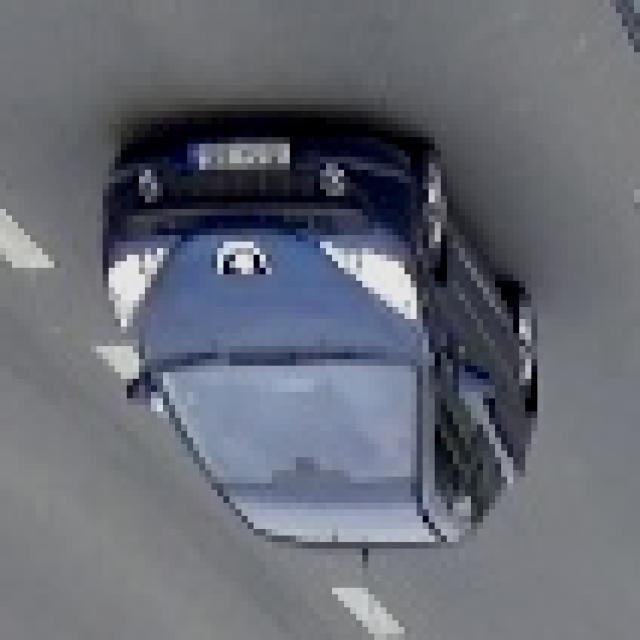blue: (104, 111, 531, 553)
